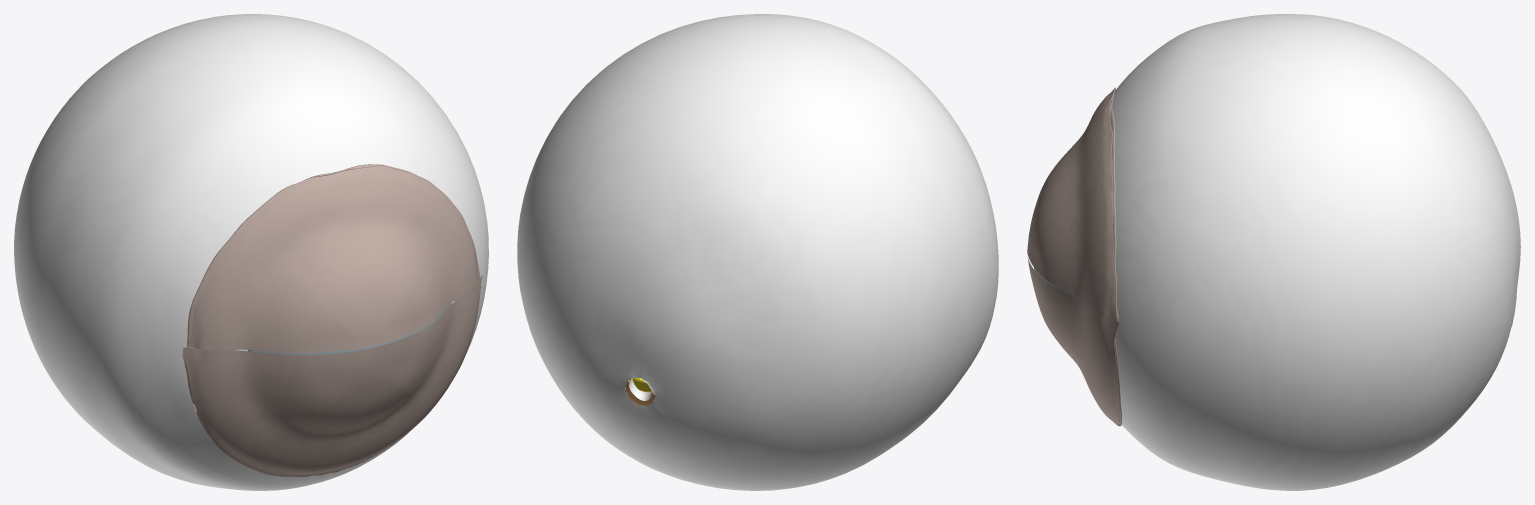
The model's file is eye.glb.
3 views of the same model, side by side, from view 1: azimuth 30°, elevation 25°; view 2: azimuth 150°, elevation 25°; view 3: azimuth 270°, elevation 25° (orthographic).
Visible parts, largest first — view 1: VH_M_sclera_L, VH_M_bulbar_conjunctiva_L; view 2: VH_M_sclera_L; view 3: VH_M_sclera_L, VH_M_bulbar_conjunctiva_L.
Part boxes in pixels (box(x1,y1,x2,y2)): VH_M_sclera_L: box(14, 14, 488, 490); VH_M_bulbar_conjunctiva_L: box(182, 164, 482, 476); VH_M_sclera_L: box(517, 14, 998, 490); VH_M_sclera_L: box(1112, 14, 1520, 490); VH_M_bulbar_conjunctiva_L: box(1027, 87, 1122, 426).
Bounding box in the file's own units: 0.0245 × 0.0245 × 0.0254.
3 materials, 3 textured.
